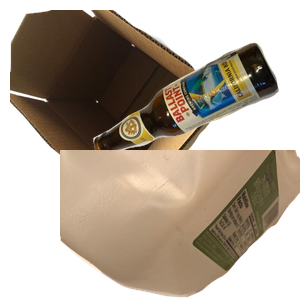cardboard: (10, 10, 218, 190)
glass: (91, 40, 300, 190)
plastic: (60, 150, 300, 300)
trash: (97, 151, 283, 300)
